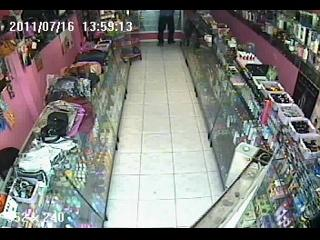Normal: (157, 10, 176, 46)
